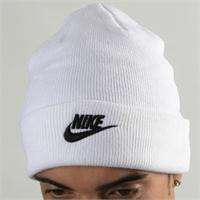hat: (20, 1, 190, 178)
